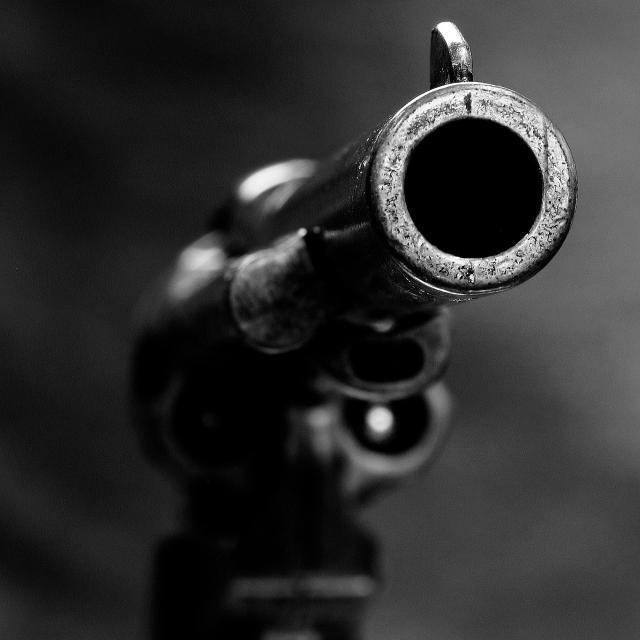Gun: (131, 24, 575, 639)
